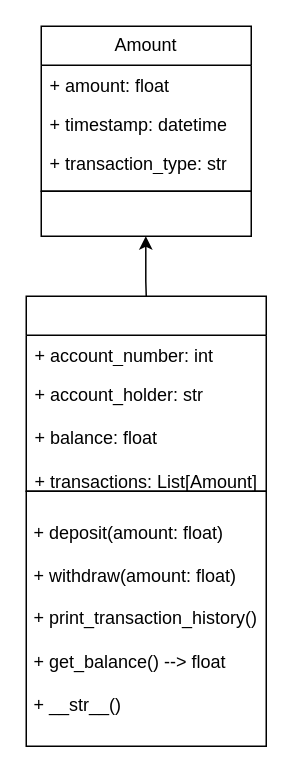
Image size: 293x773. Some labels were removed from this diagram. Each missing label, with the box of its shape:
+ __str__(): (40, 190, 251, 236)
Personal Account: (25, 295, 266, 491)
